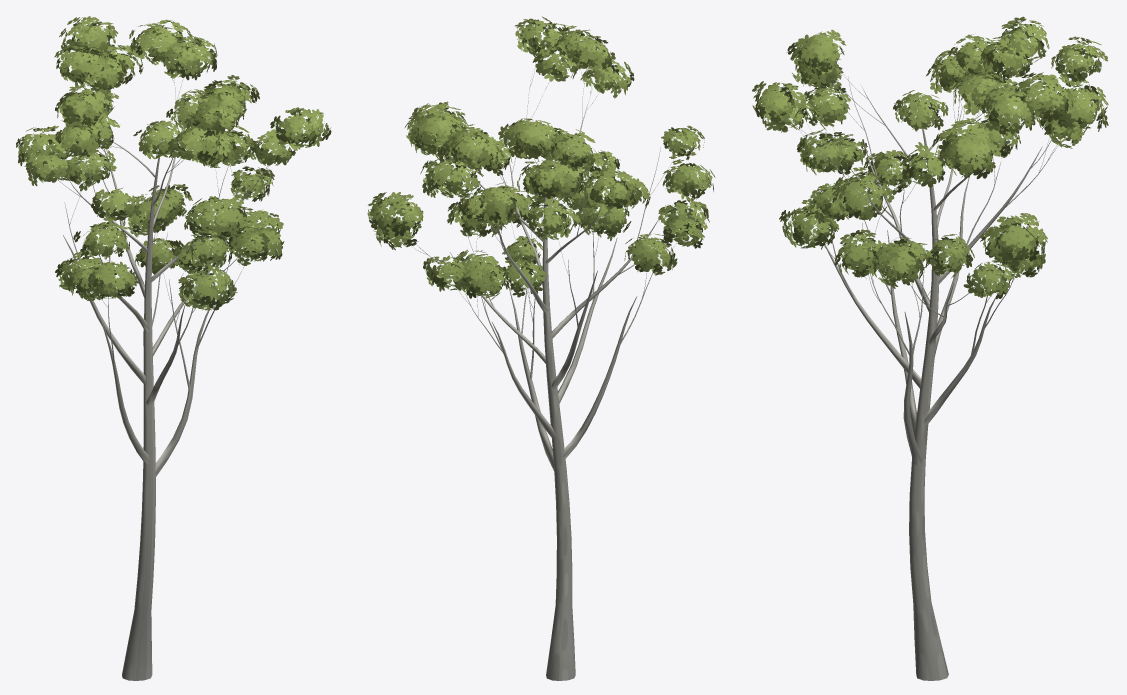
Rendered from tree.gltf.
3 views of the same model, side by side, from view 1: azimuth 30°, elevation 25°; view 2: azimuth 150°, elevation 25°; view 3: azimuth 270°, elevation 25° (orthographic). The views are drawn at different scales.
Visible parts, largest first — view 1: Tree_LOD0; view 2: Tree_LOD0; view 3: Tree_LOD0.
Boxes of the visible parts, bbox=[...] form: Tree_LOD0: bbox=[16, 16, 331, 680]; Tree_LOD0: bbox=[367, 16, 715, 680]; Tree_LOD0: bbox=[752, 16, 1108, 680].
Bounding box in the file's own units: 11.17 × 23.9 × 12.03.
2 materials, 2 textured.
